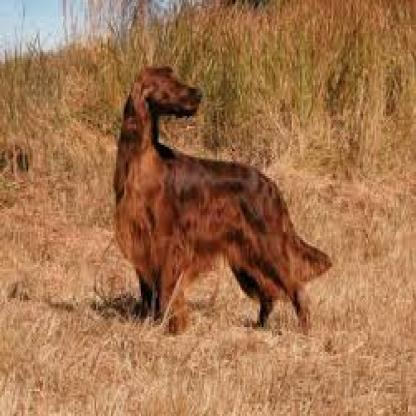Irish setter: (96, 41, 322, 338)
